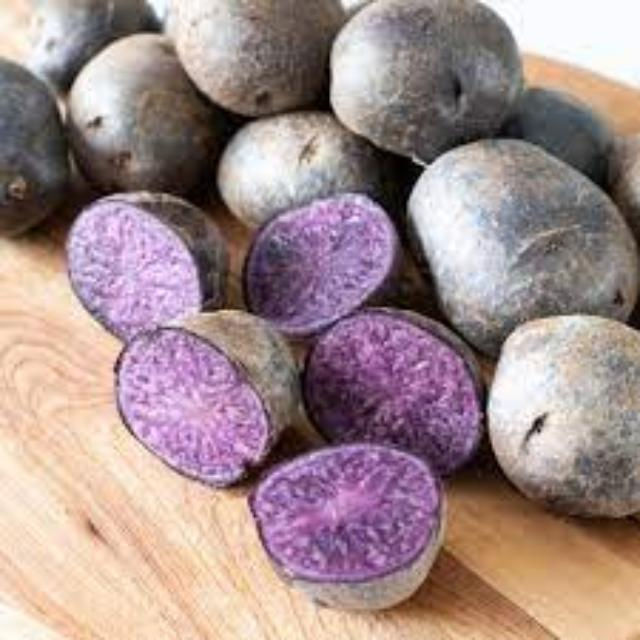Damaged potato: (406, 132, 640, 360), (485, 320, 639, 532), (327, 0, 527, 160), (65, 36, 229, 204), (170, 1, 350, 118), (214, 112, 376, 234), (1, 49, 74, 239), (21, 1, 165, 95)
Defected potato: (106, 314, 316, 484), (256, 442, 446, 608), (302, 305, 480, 473), (230, 184, 412, 338), (71, 190, 227, 354)
